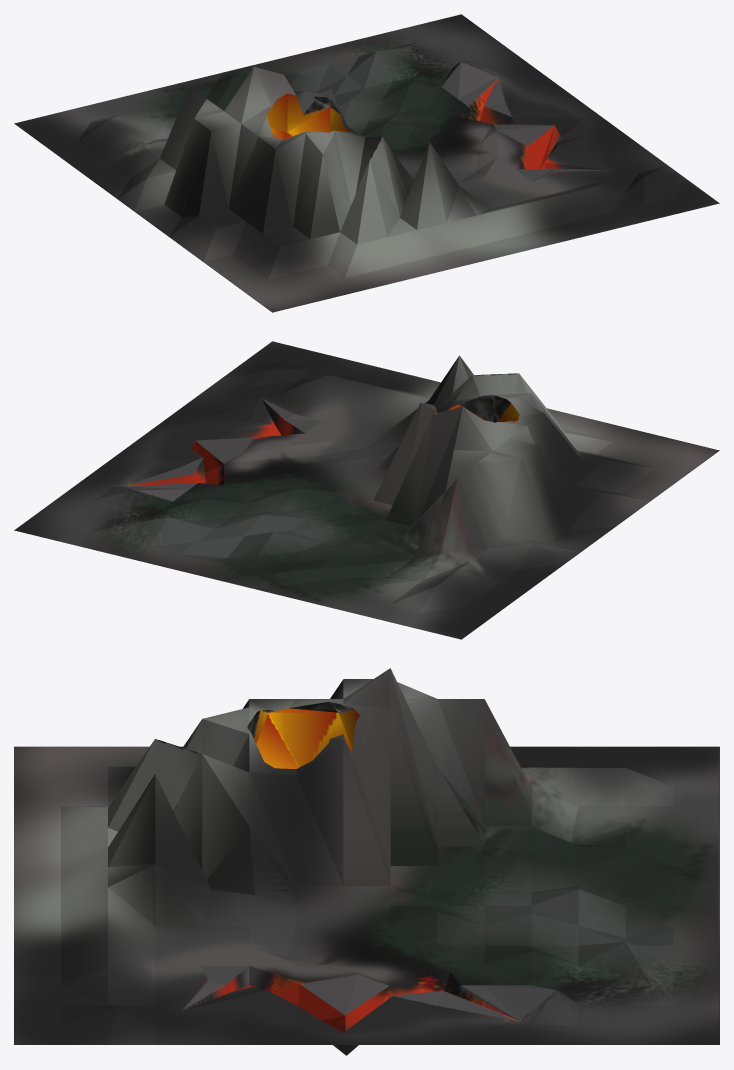
Rendered from feuer.fbx.
3 views of the same model, one above another, from view 1: azimuth 30°, elevation 25°; view 2: azimuth 150°, elevation 25°; view 3: azimuth 270°, elevation 25° (orthographic). The views are drawn at different scales.
Parts seen in each view (by area): view 1: feuer_landschaft; view 2: feuer_landschaft; view 3: feuer_landschaft.
Boxes of the visible parts, x1,y1,x2,y2 form: feuer_landschaft: [14, 14, 719, 312]; feuer_landschaft: [14, 341, 719, 639]; feuer_landschaft: [14, 668, 719, 1055].
Bounding box in the file's own units: 20000 × 5956 × 20000.
